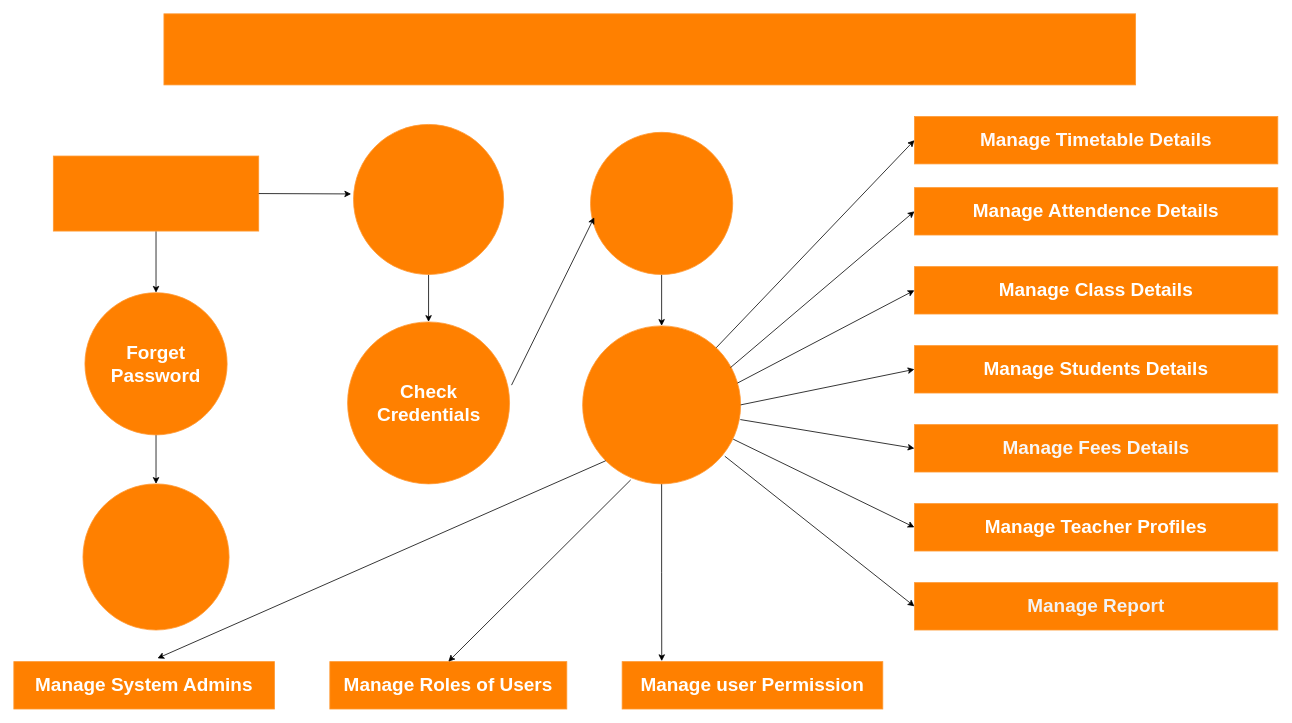
The diagram is 1292 pixels wide and 723 high, and some of its shapes have lost their labels. Each missing label, with the box of its shape:
Admin: (53, 155, 259, 231)
Check Roles Of Acces: (590, 132, 733, 275)
Login To System: (353, 124, 504, 275)
Manage Modules: (582, 325, 741, 484)
Send Email To Users: (82, 483, 229, 630)
Student Information System: (163, 13, 1136, 85)
